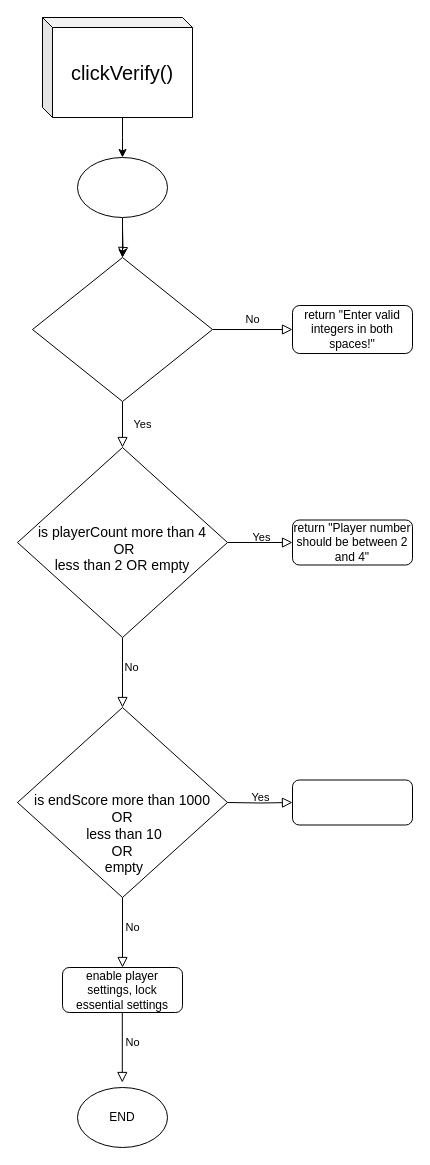
Some shapes in this 430 by 1165 pixel diagram are drawn without their labels. The box of each missing label's shape, as (x1, y1, x2, y2) in pixels:
is playerCount integer? AND is endScore integer?: (32, 256, 212, 402)
return "End score has to be between 10 and 1000": (292, 779, 412, 825)
START: (76, 156, 168, 218)
